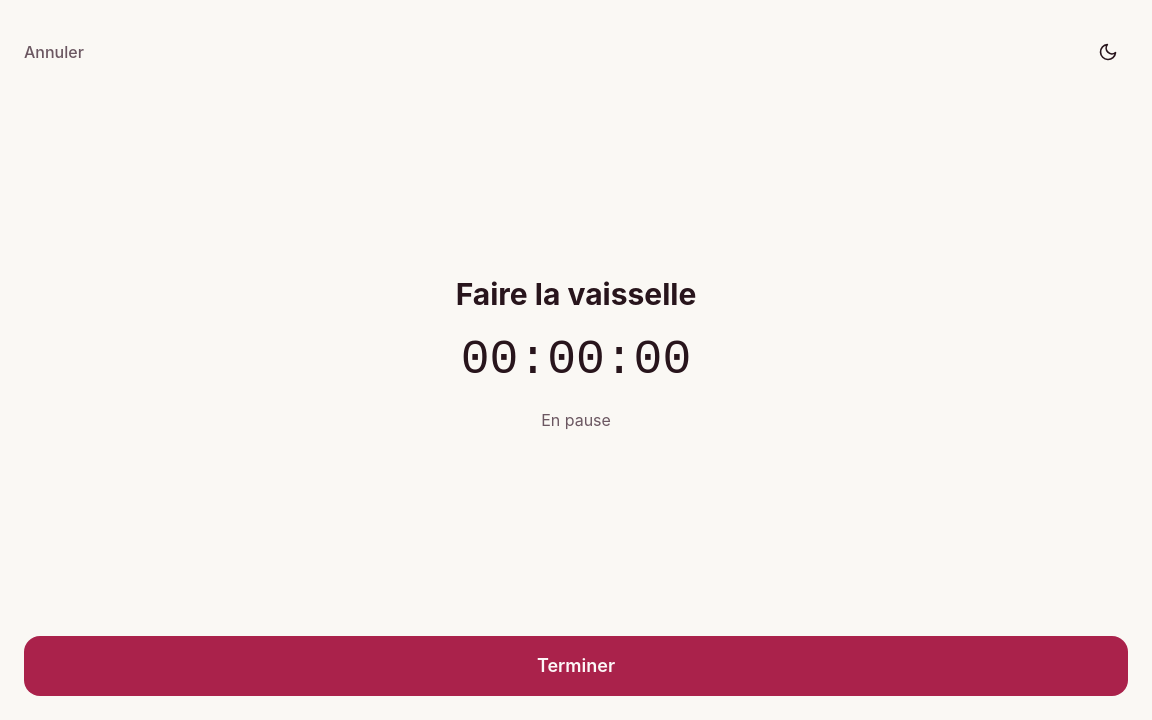
Test: ChronoScreen › asks for confirmation when tapping Annuler once the task has started (status paused)
What coordinates should you click on to do the following:
click the button "Annuler"
I would click on:
 (54, 52)
Its box is [24,40,84,64].
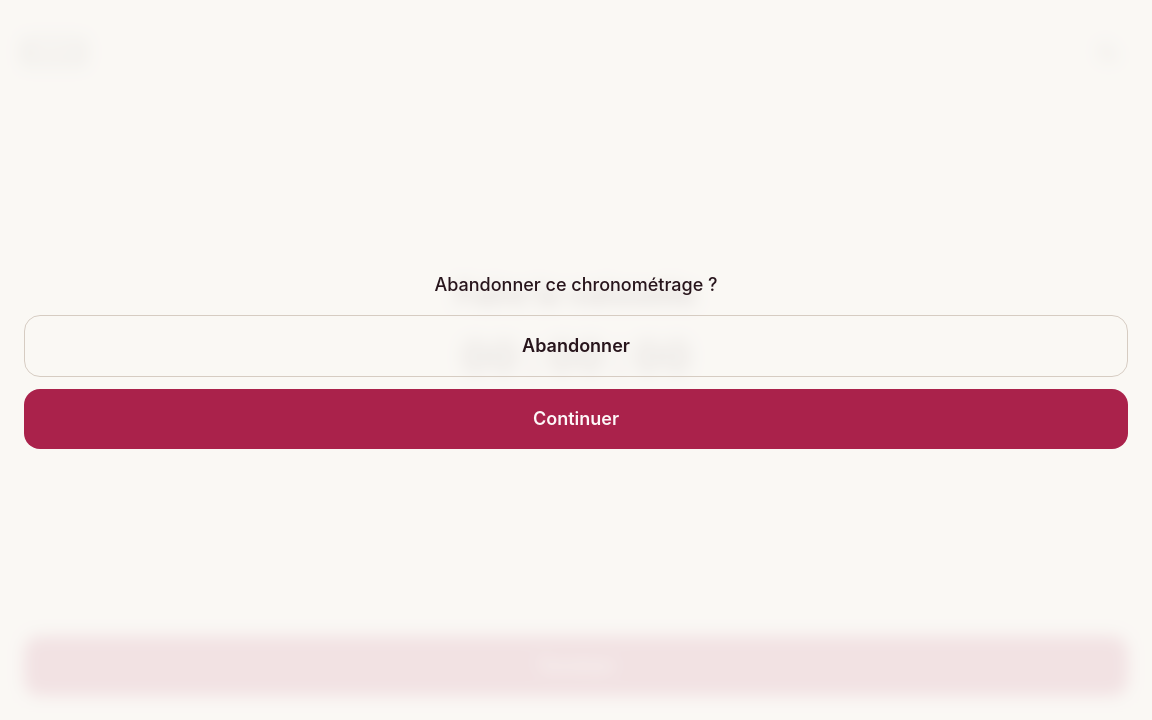
Now the text "Abandonner ce chronométrage ?" is shown, box [434,271,718,299]
